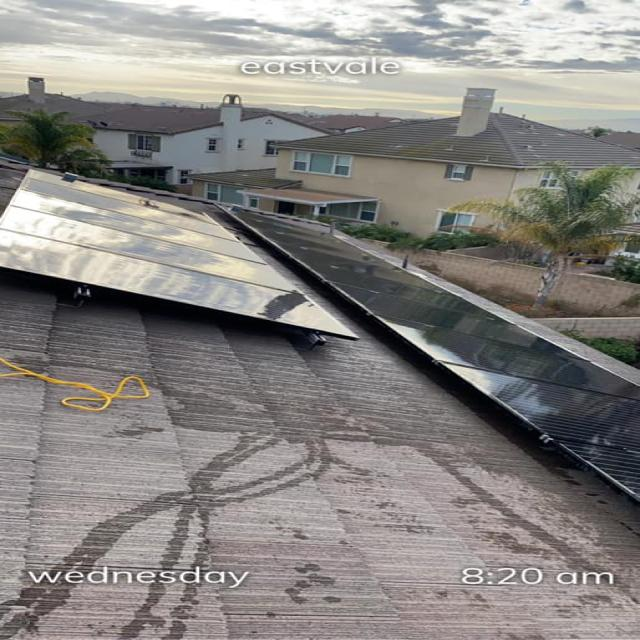clean-solar-panel: (243, 212, 637, 498)
